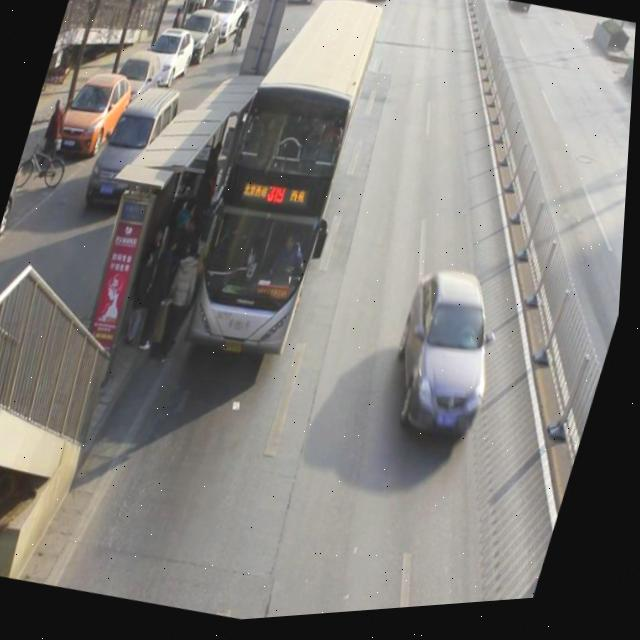car: (380, 274, 518, 455), (506, 7, 534, 24), (369, 0, 396, 10)
van: (183, 0, 390, 371)
